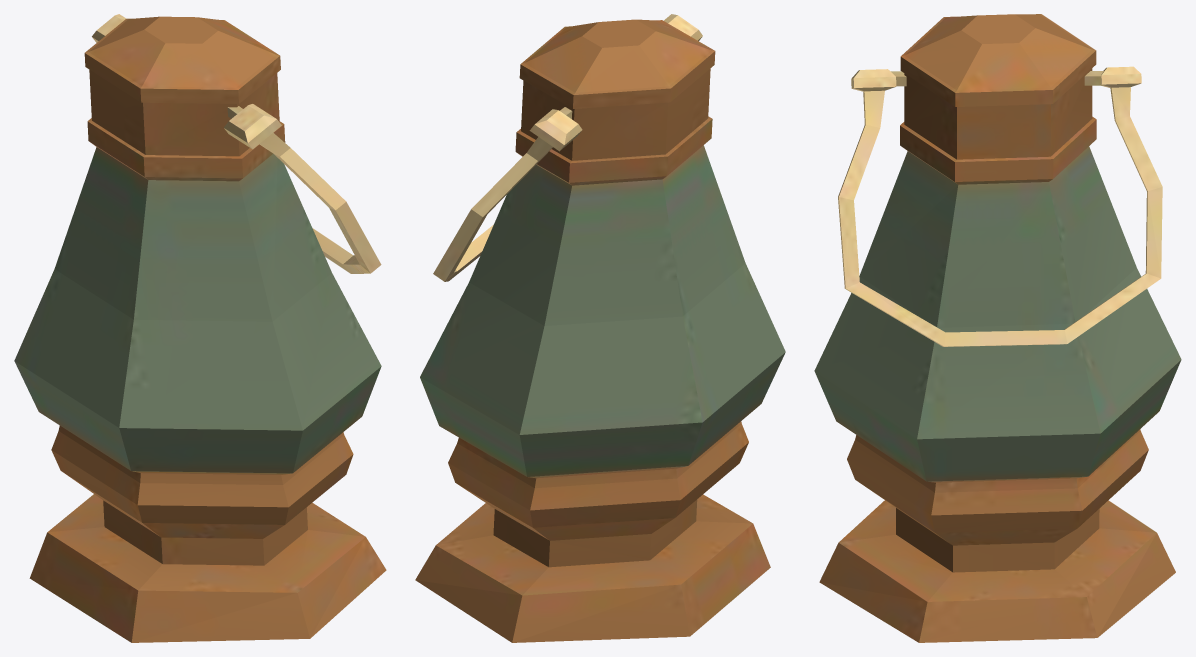
The model's file is lantern.glb.
3 views of the same model, side by side, from view 1: azimuth 30°, elevation 25°; view 2: azimuth 150°, elevation 25°; view 3: azimuth 270°, elevation 25° (orthographic). The views are drawn at different scales.
Visible parts, largest first — view 1: lantern; view 2: lantern; view 3: lantern.
Part boxes in pixels (box(x1,y1,x2,y2)): lantern: box(14, 14, 386, 642); lantern: box(415, 14, 785, 642); lantern: box(814, 14, 1181, 642).
Bounding box in the file's own units: 0.3721 × 0.676 × 0.419.
1 material, 1 textured.
